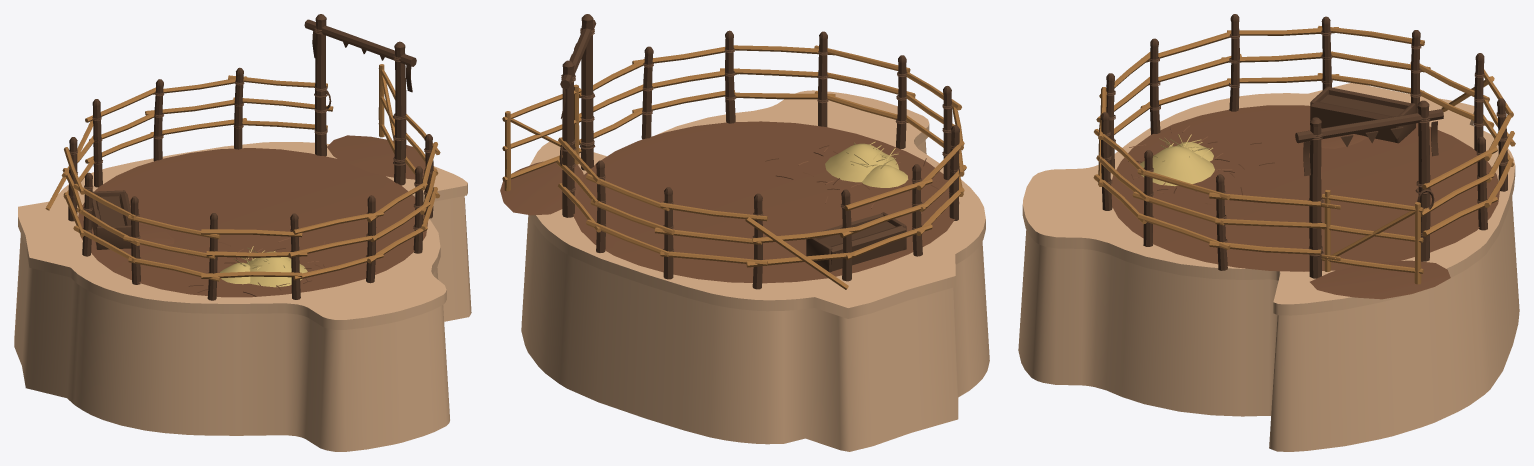
The model's file is nomad_animal_pen.fbx.
3 renders of one model, left to right at view 1: azimuth 30°, elevation 25°; view 2: azimuth 150°, elevation 25°; view 3: azimuth 270°, elevation 25°, orthographic. The views are drawn at different scales.
Parts seen in each view (by area): view 1: NomadAnimalPen; view 2: NomadAnimalPen; view 3: NomadAnimalPen.
Part boxes in pixels (<box>): NomadAnimalPen: <box>14,14,471,451</box>; NomadAnimalPen: <box>500,14,989,451</box>; NomadAnimalPen: <box>1018,14,1519,451</box>.
Bounding box in the file's own units: 1330 × 837 × 1251.
